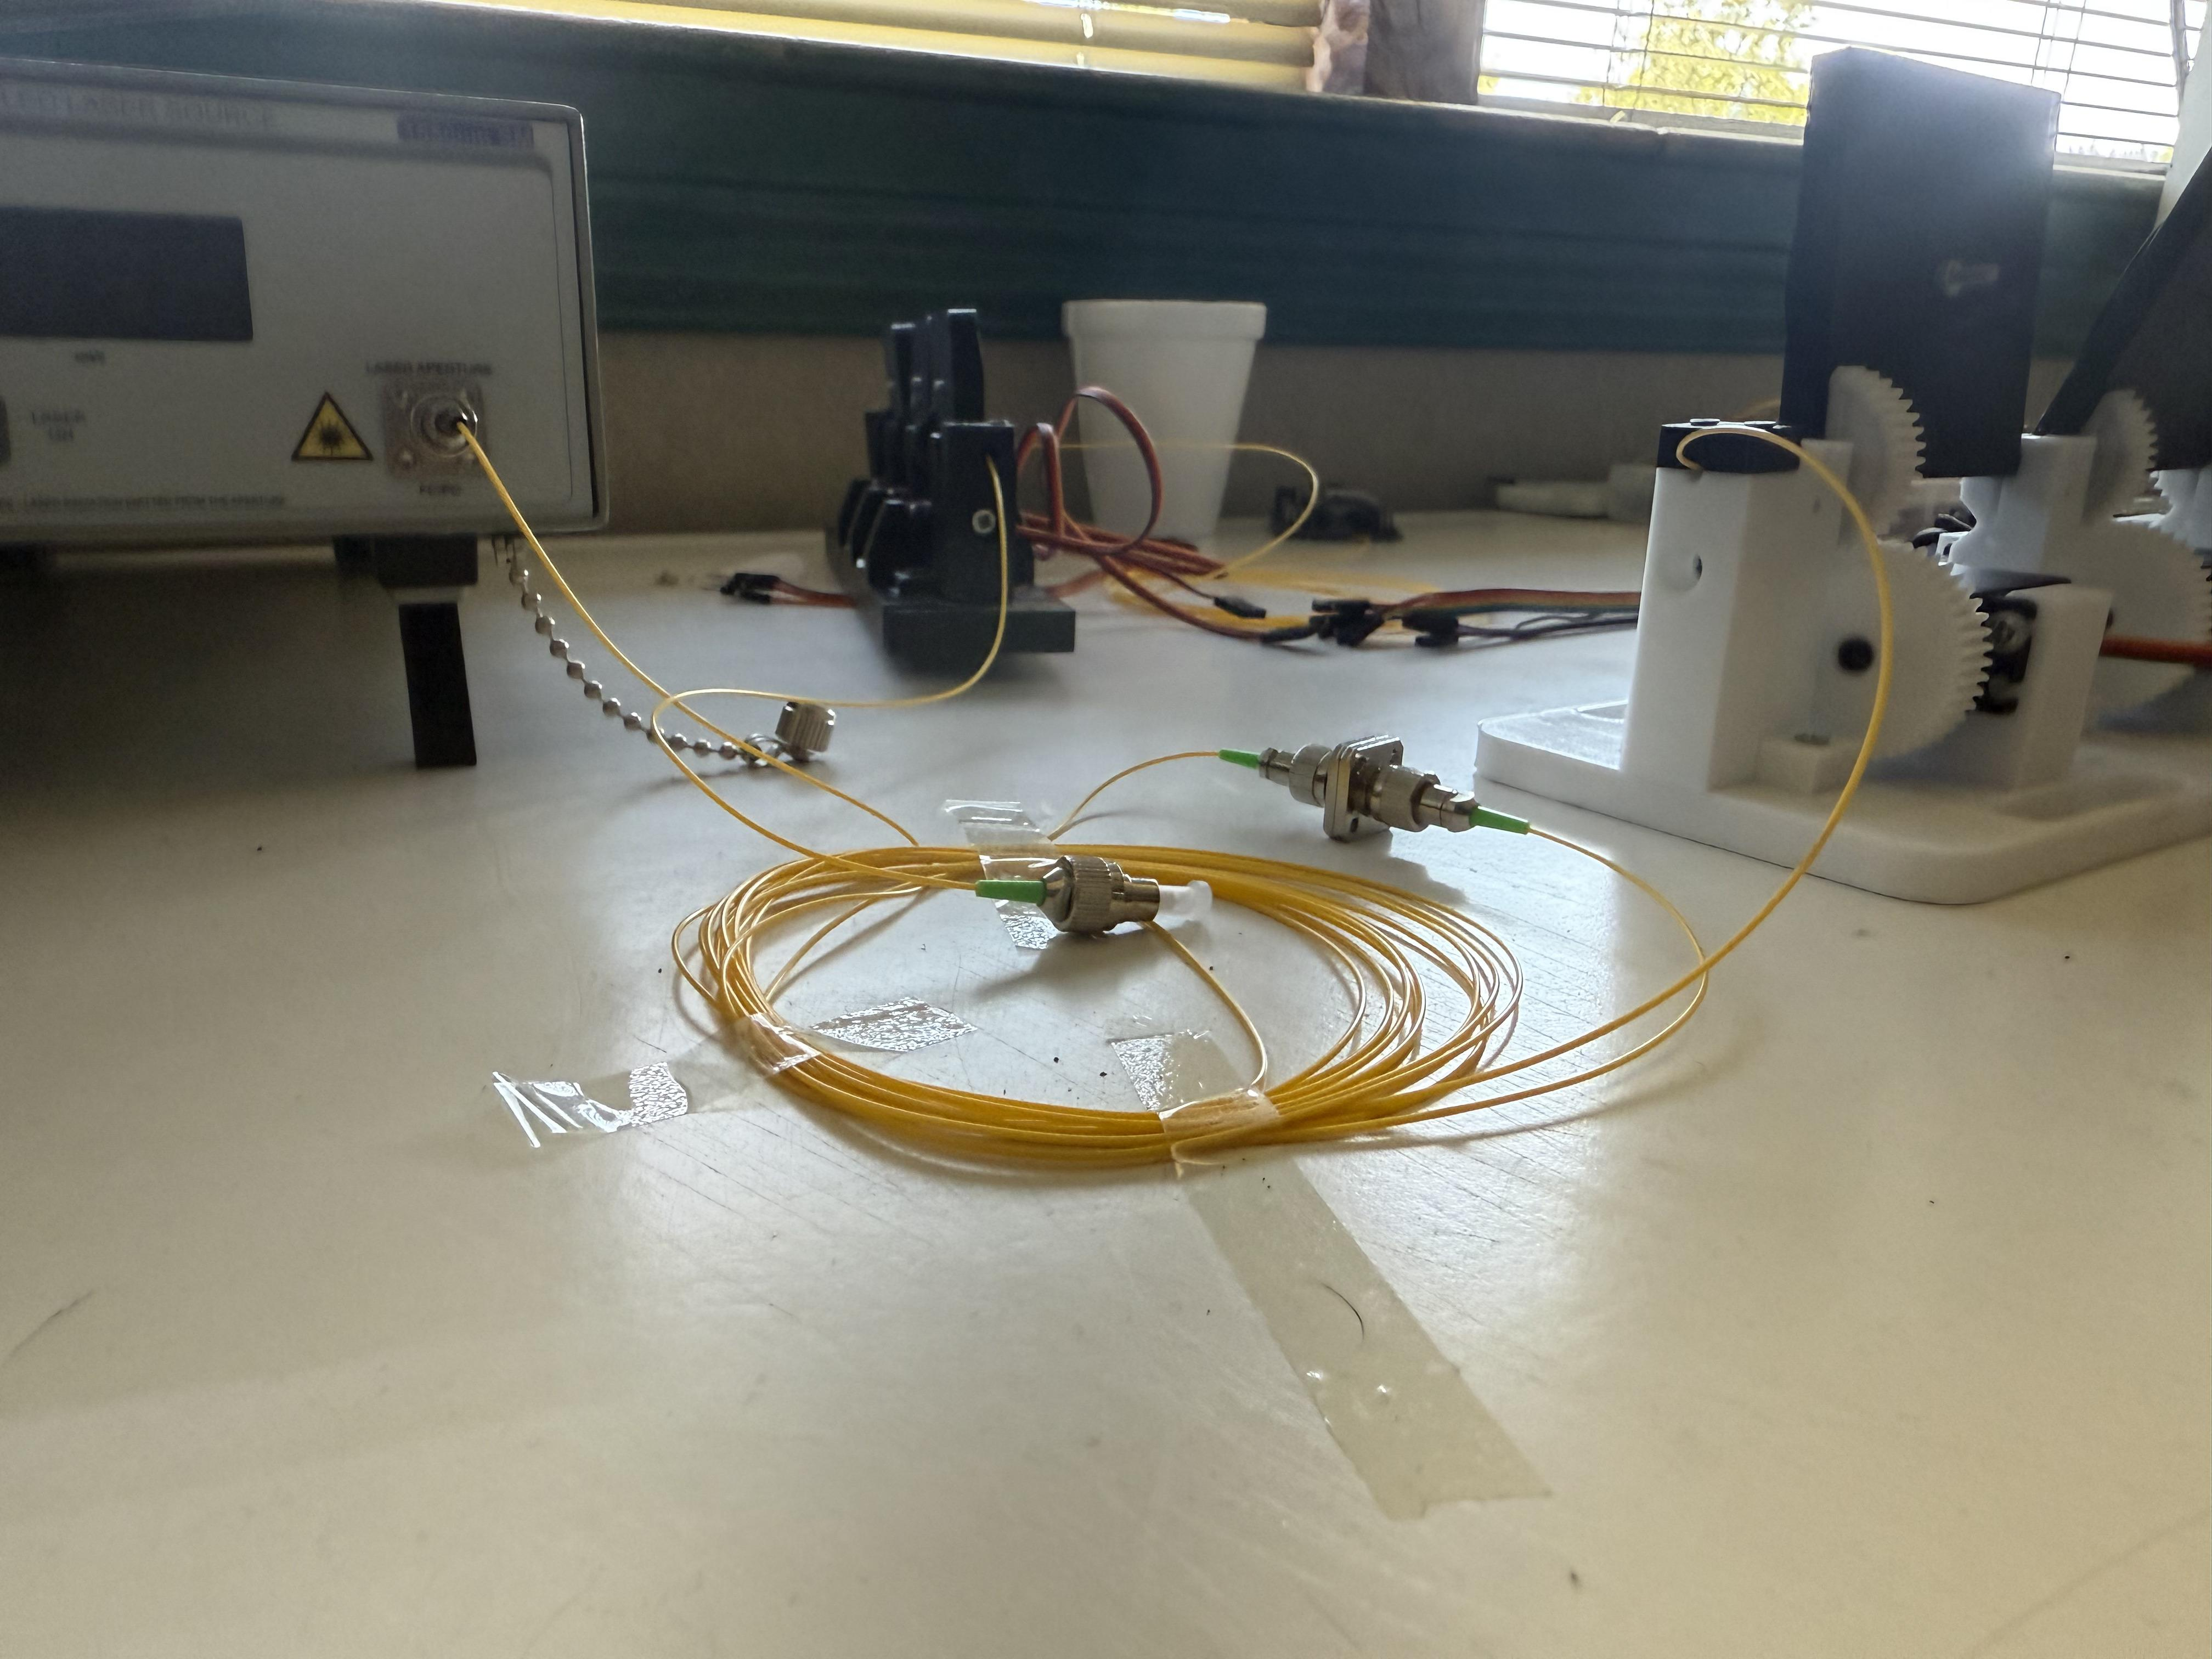fiber_cable: (625, 761, 1776, 1184)
laser: (3, 47, 627, 786)
paddle_polarization_controller: (1468, 7, 2211, 936), (806, 289, 1103, 697)
